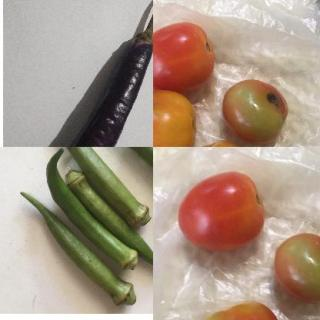Tomat: (153, 13, 304, 147), (171, 169, 273, 252), (274, 221, 320, 306)
